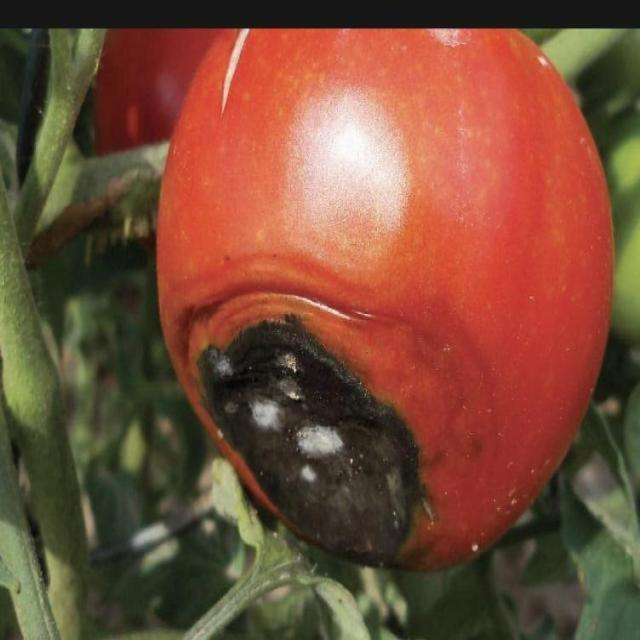Blossom End Rot Fruit: (121, 207, 288, 379)
